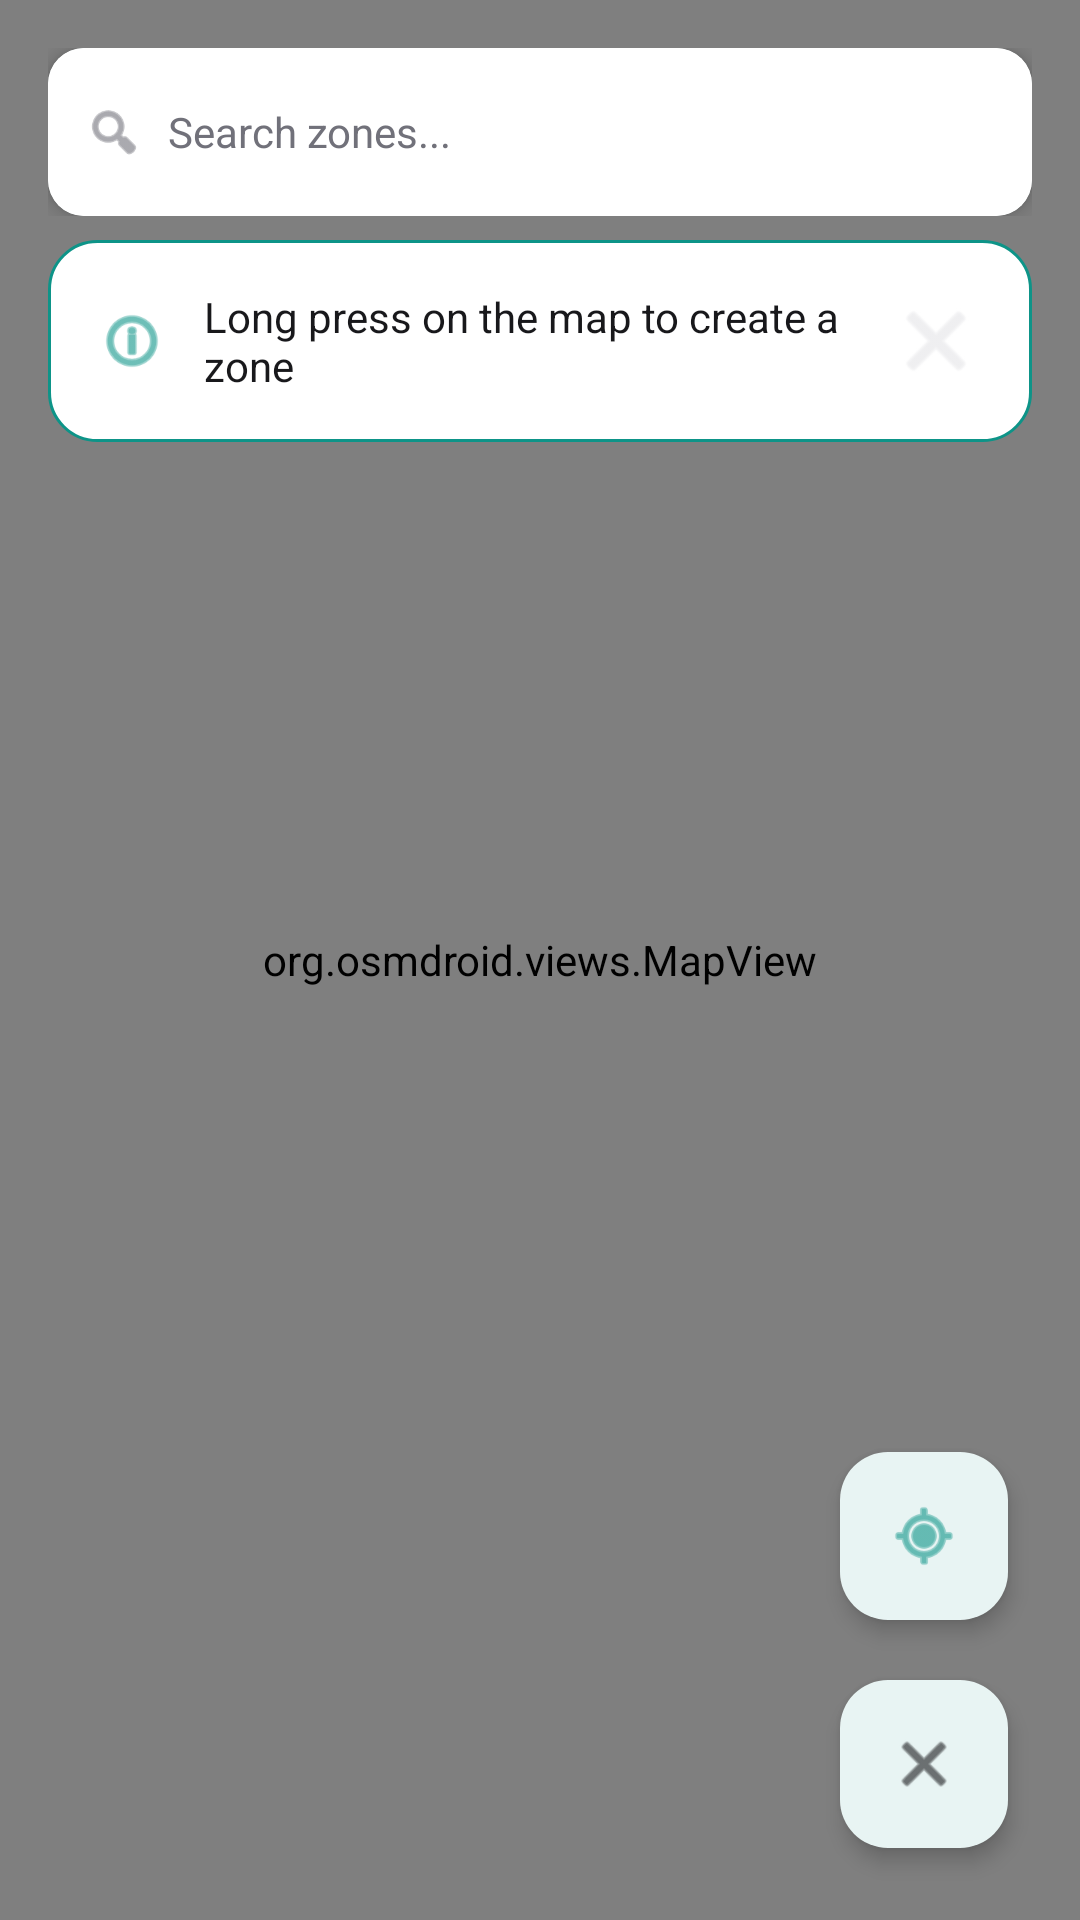

Screen size 1080px x 1920px. Icon name, then its center in pixels as (x,y):
Cancel: (924,1764)
info details: (132,341)
My Location: (924,1536)
